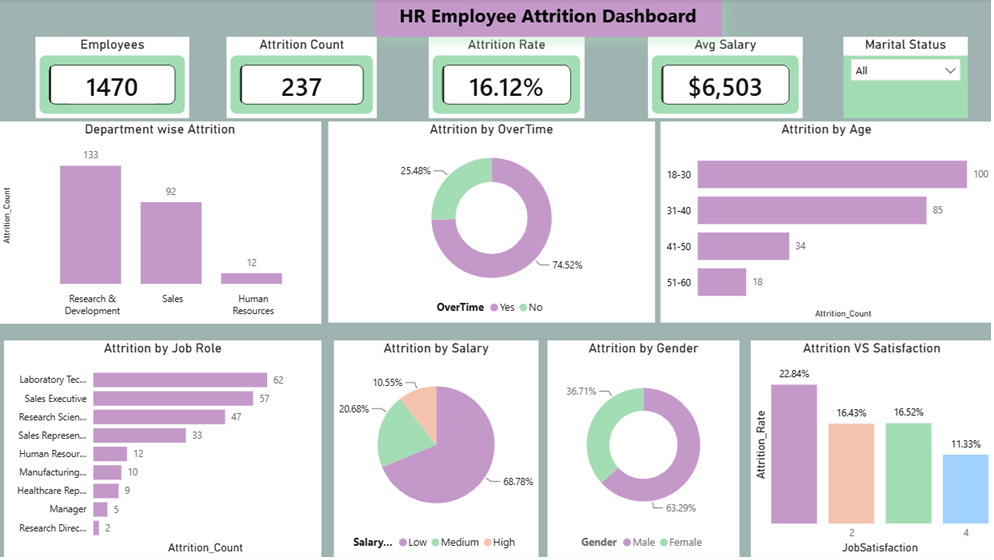

What the dashboard file says about the page in this screenshot:
{"tool":"powerbi","page":{"name":"Attrition_Analysis","canvas":[1280,720],"ordinal":0},"visuals":[{"type":"cardVisual","title":"Employees","fields":{"Data":["Employees.Total_Employees"]},"box":[48,49.4,197.8,104.7],"z":0},{"type":"cardVisual","title":"Attrition Count","fields":{"Data":["Employees.Employees_Left"]},"box":[293.7,49.4,193.4,104.7],"z":1000},{"type":"cardVisual","title":"Attrition Rate","fields":{"Data":["Employees.Attrition_Rate"]},"box":[554,49.4,200.7,104.7],"z":2000},{"type":"cardVisual","title":"Avg Salary","fields":{"Data":["Employees.Avg_Salary"]},"box":[836.1,49.4,199.2,104.7],"z":3000},{"type":"columnChart","title":"Department wise Attrition","fields":{"Category":["Employees.Department"],"Y":["Employees.Employees_Left"]},"box":[0,158.5,415.9,260.3],"z":4000},{"type":"clusteredBarChart","title":"Attrition by Job Role","fields":{"Category":["Employees.JobRole"],"Y":["Employees.Employees_Left"]},"box":[7.3,440.6,408.6,279.2],"z":5000},{"type":"donutChart","title":"Attrition by OverTime","fields":{"Category":["Employees.OverTime"],"Y":["Employees.Attrition_Rate"]},"box":[424.6,158.5,420.2,258.8],"z":6000},{"type":"clusteredBarChart","title":"Attrition by Age","fields":{"Category":["Employees.Age Group"],"Y":["Employees.Employees_Left"]},"box":[852.1,158.5,427.5,258.8],"z":7000},{"type":"pieChart","title":"Attrition by Salary","fields":{"Category":["Employees.Salary Group"],"Y":["Employees.Employees_Left"]},"box":[431.9,440.6,263.2,279.2],"z":8000},{"type":"columnChart","title":"Attrition VS Satisfaction","fields":{"Category":["Employees.JobSatisfaction"],"Y":["Employees.Attrition_Rate"]},"box":[968.5,440.6,311.2,279.2],"z":9000},{"type":"slicer","title":"Marital  Status","fields":{"Values":["Employees.MaritalStatus"]},"box":[1087.7,49.4,160,104.7],"z":10000},{"type":"textbox","box":[484.1,0,446.4,49.3],"z":11000},{"type":"donutChart","title":"Attrition by Gender","fields":{"Y":["Employees.Employees_Left"],"Category":["Employees.Gender"]},"box":[706.7,440.6,247.2,279.2],"z":12000}]}

Visuals, with their boxes in screenshot pixels (x1, y1, x2, y2), scaled from the page's 1280x720 canvas onto the 994x560 screenshot:
"Employees" cardVisual: 37,38,191,120
"Attrition Count" cardVisual: 228,38,378,120
"Attrition Rate" cardVisual: 430,38,586,120
"Avg Salary" cardVisual: 649,38,804,120
"Department wise Attrition" columnChart: 0,123,323,326
"Attrition by Job Role" clusteredBarChart: 6,343,323,559
"Attrition by OverTime" donutChart: 330,123,656,325
"Attrition by Age" clusteredBarChart: 662,123,993,325
"Attrition by Salary" pieChart: 335,343,540,559
"Attrition VS Satisfaction" columnChart: 752,343,993,559
"Marital  Status" slicer: 845,38,969,120
textbox: 376,0,723,38
"Attrition by Gender" donutChart: 549,343,741,559
